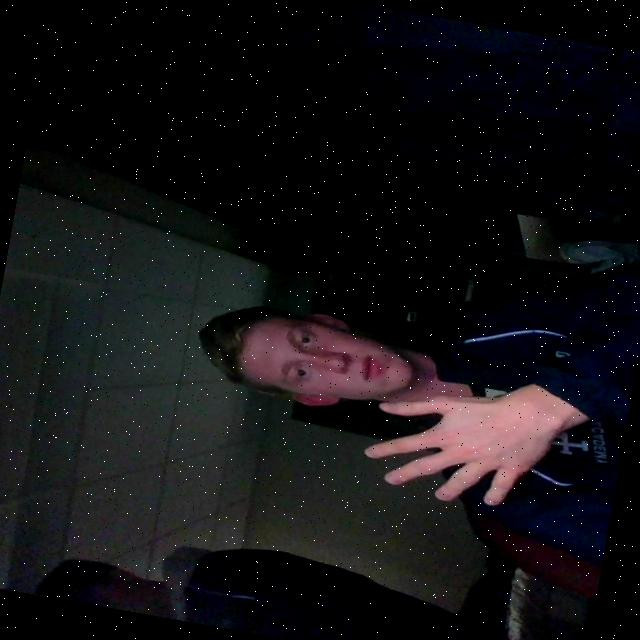paper: (356, 366, 576, 520)
